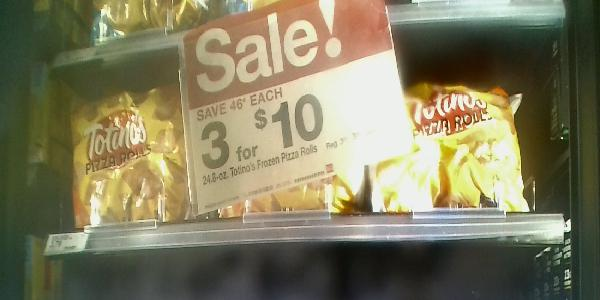icecream: (193, 43, 369, 217), (54, 66, 197, 224), (370, 76, 529, 216)
